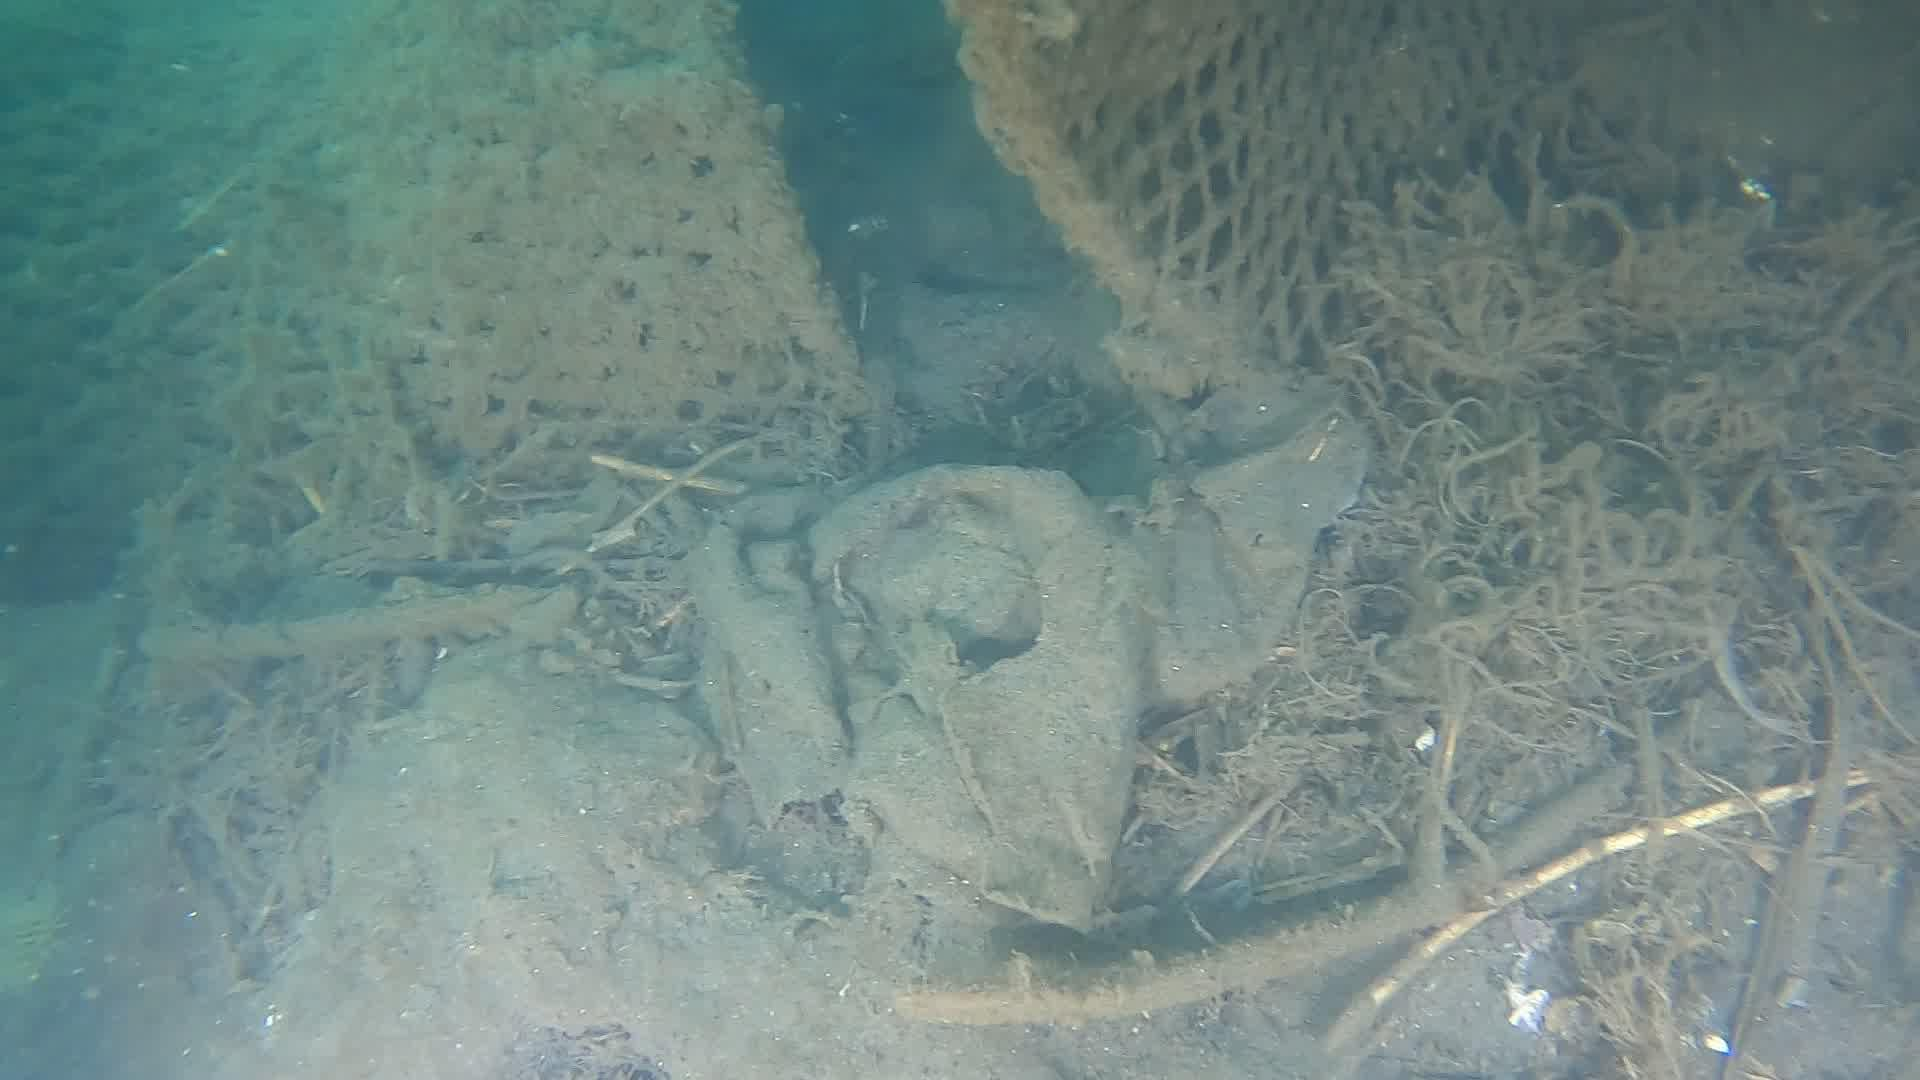spring fish trap: (0, 0, 858, 512), (940, 3, 1643, 418)
